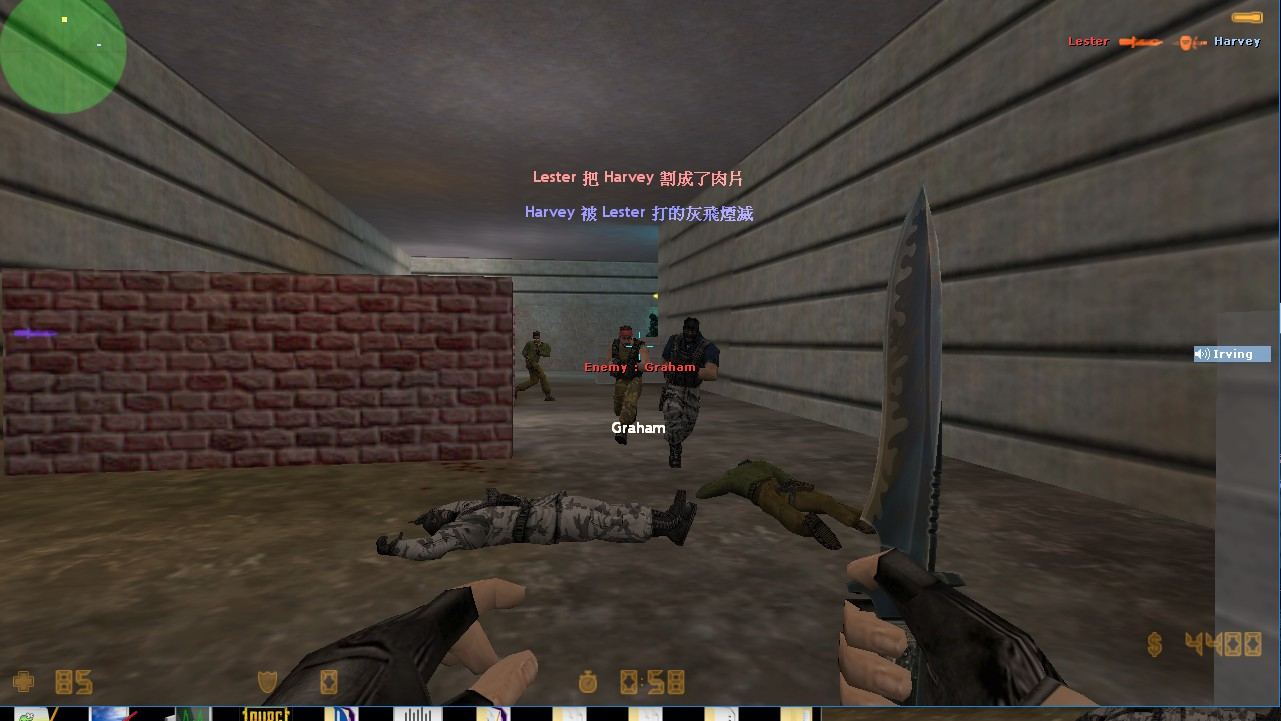person: (663, 318, 722, 464), (603, 316, 649, 445), (519, 327, 561, 406)
